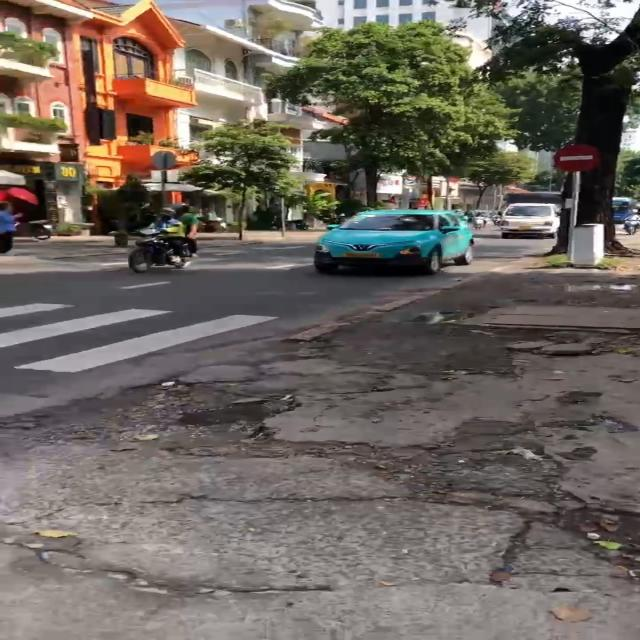Bien bao cam di nguoc chieu: (547, 143, 610, 173)
